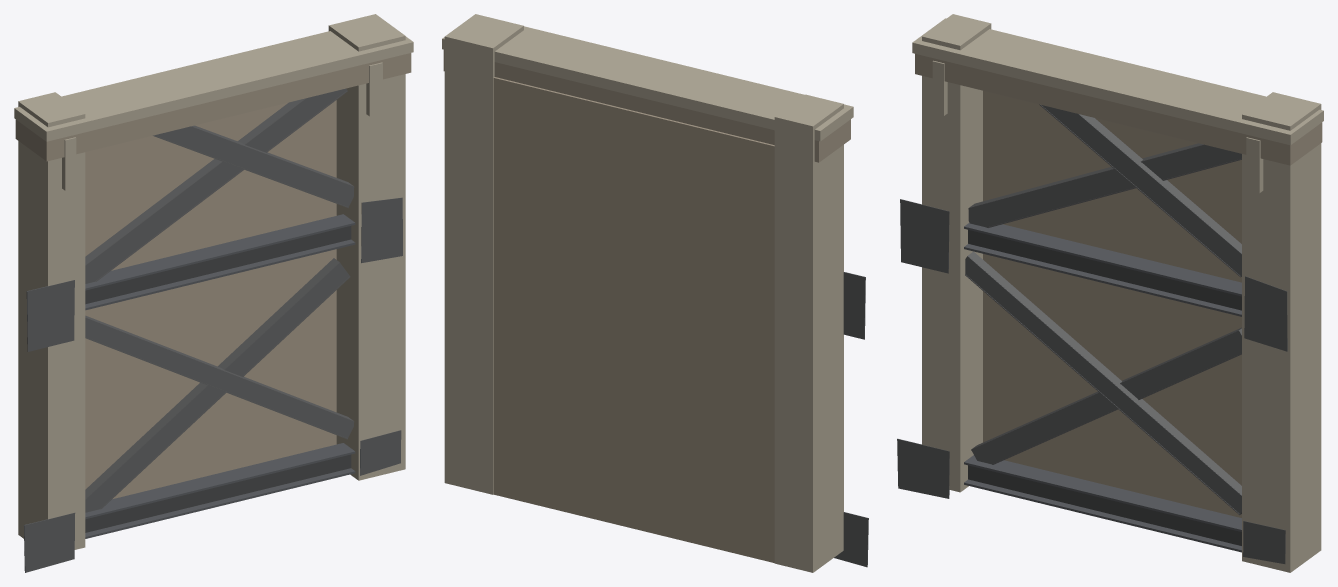
The model's file is huangpu-nanshi-power-station-hall-cross-bracing-raw.glb.
3 views of the same model, side by side, from view 1: azimuth 30°, elevation 25°; view 2: azimuth 150°, elevation 25°; view 3: azimuth 330°, elevation 25° (orthographic). The views are drawn at different scales.
Visible parts, largest first — view 1: 南市发电厂主厅右侧上下两层钢交叉撑; view 2: 南市发电厂主厅右侧上下两层钢交叉撑; view 3: 南市发电厂主厅右侧上下两层钢交叉撑.
Part boxes in pixels (bbox=[...]): 南市发电厂主厅右侧上下两层钢交叉撑: bbox=[14, 14, 413, 572]; 南市发电厂主厅右侧上下两层钢交叉撑: bbox=[442, 14, 868, 572]; 南市发电厂主厅右侧上下两层钢交叉撑: bbox=[897, 14, 1323, 572].
Size of the model in its own units: 5.59 by 6.15 by 0.85.
